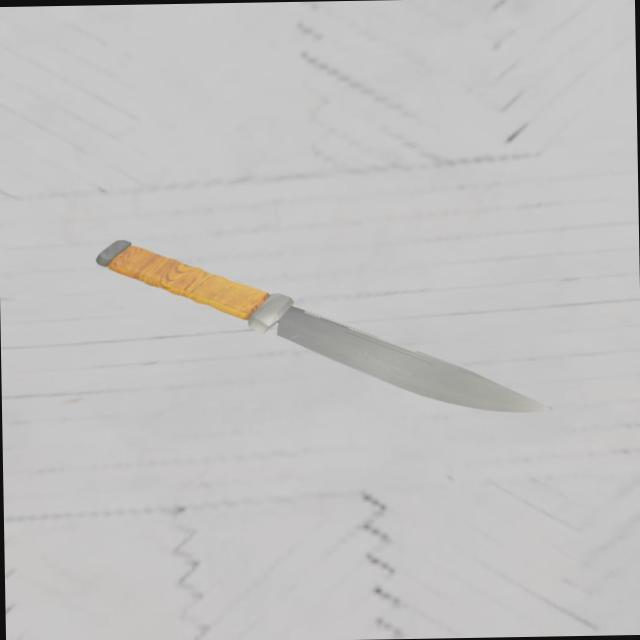knife: (103, 236, 280, 323)
